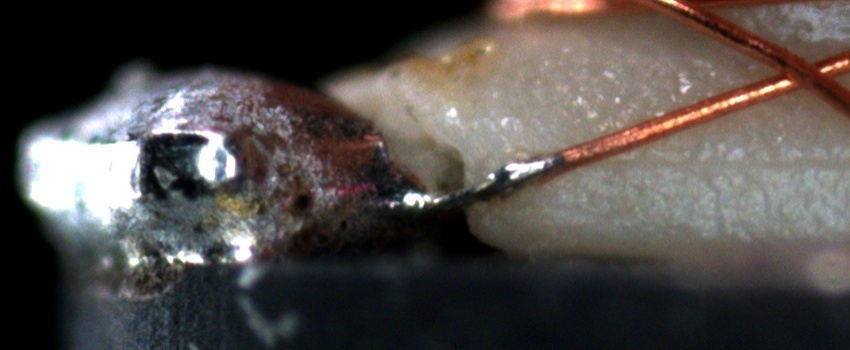CL: (751, 42, 845, 101)
DL: (603, 132, 850, 196)
TB: (482, 153, 537, 194)
TS: (422, 154, 561, 217)
TTCW: (387, 126, 640, 215)
